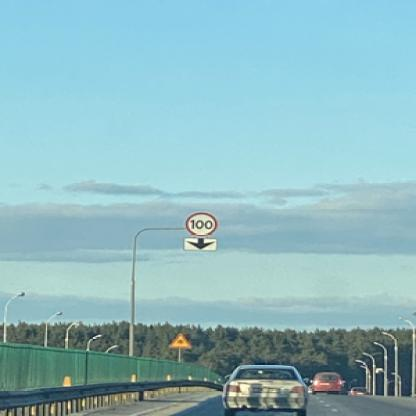speedlimit: (183, 211, 215, 234)
